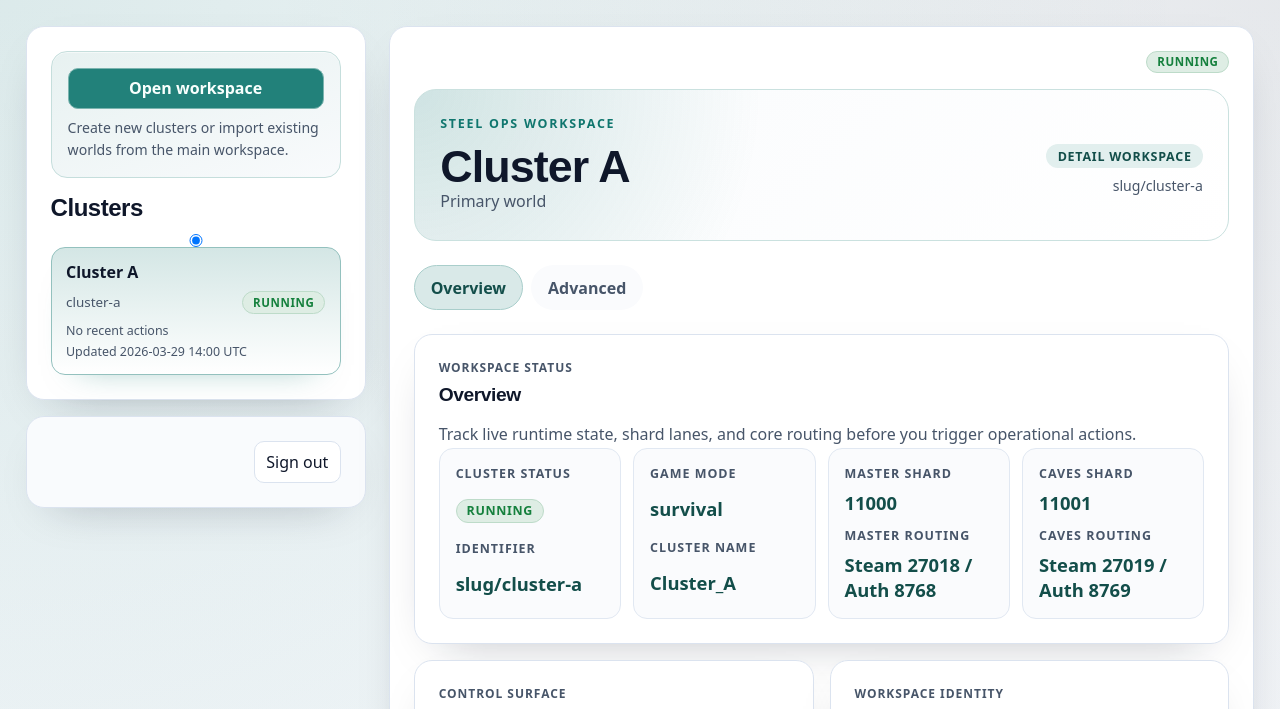
App › shows the cluster library in the workspace and adopts discovered managed roots
Expected: the heading "Cluster A" is shown, [440,144,630,189]
What coordinates should you click on to do the following:
click the button "Open workspace"
I would click on:
 (196, 88)
Its box is [68,68,324,109].
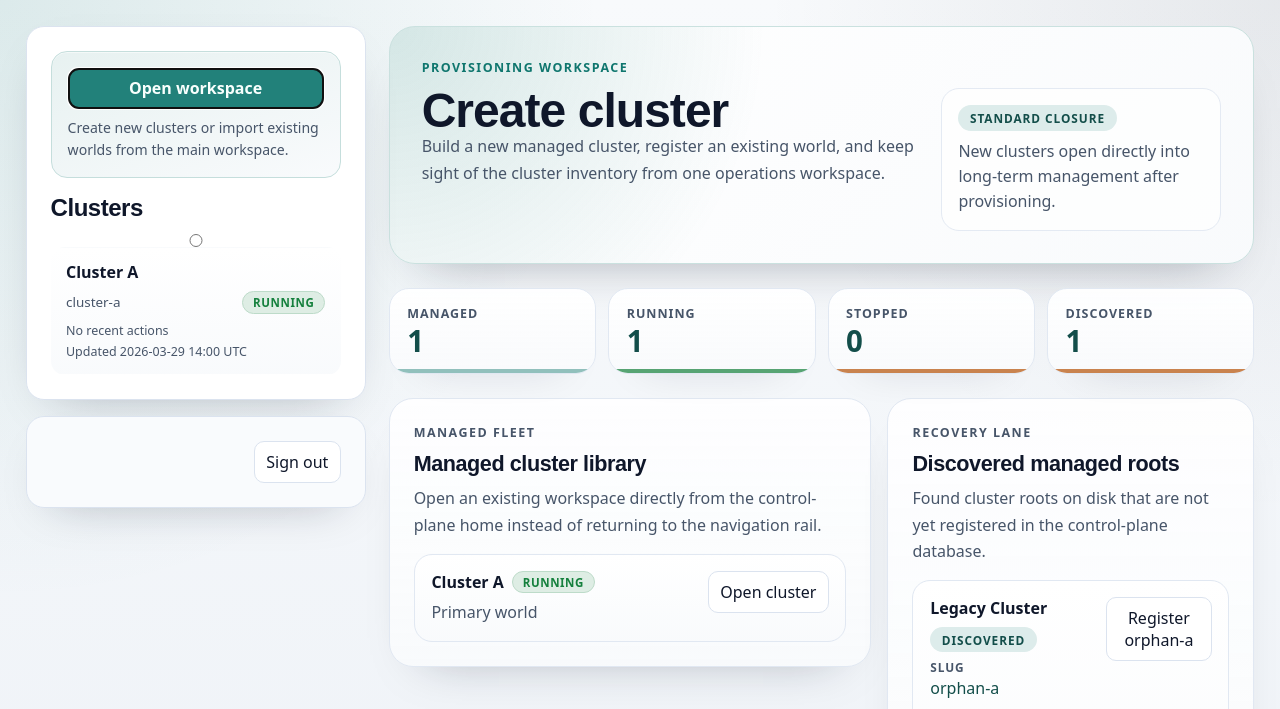
Result: the heading "Managed cluster library" is shown at [414,451,646,476]
Result: the text "Legacy Cluster" is shown at [930,597,1047,619]
Result: the heading "Discovered managed roots" is shown at [912,451,1179,476]
What coordinates should you click on to do the following:
click the button "Register orphan-a"
I would click on:
 (1159, 629)
Its box is [1106,597,1212,661].
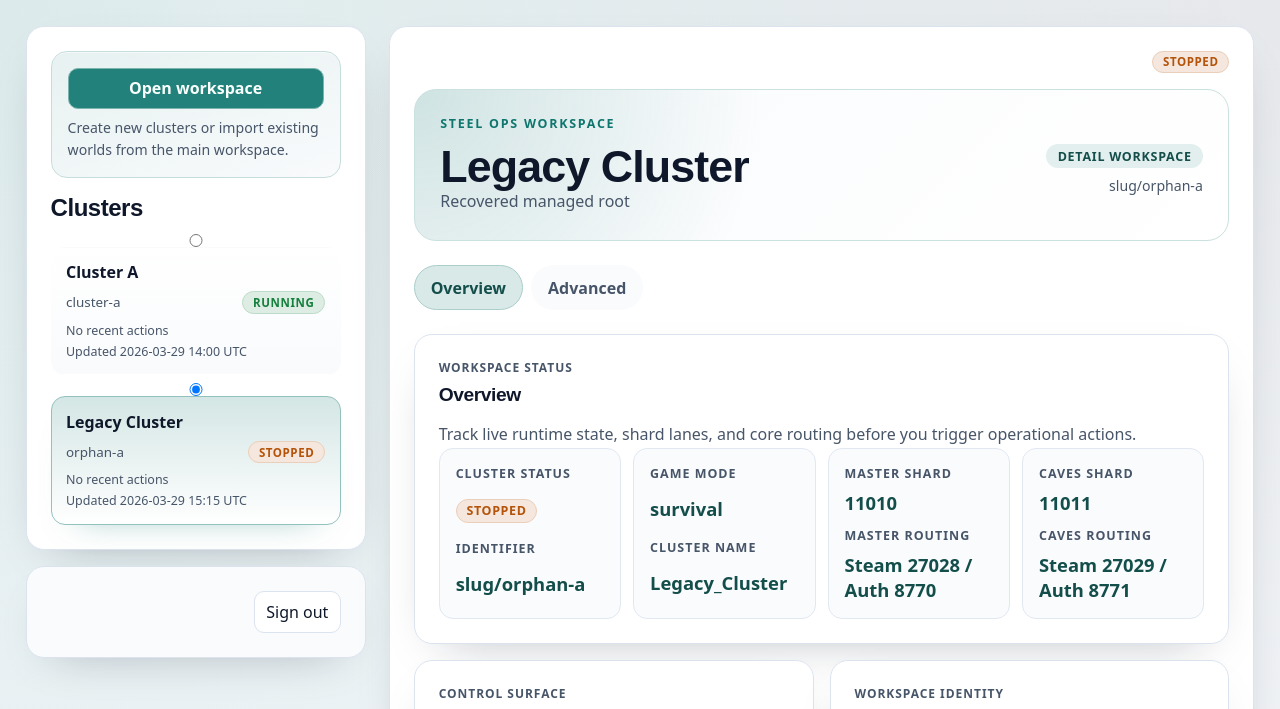
Result: the heading "Legacy Cluster" is shown at [440,144,749,189]
